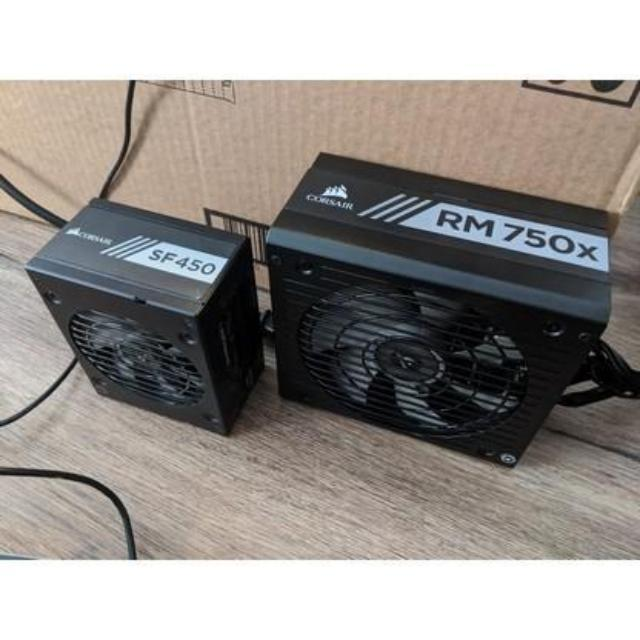PSU: (259, 140, 633, 482), (19, 182, 279, 454)
